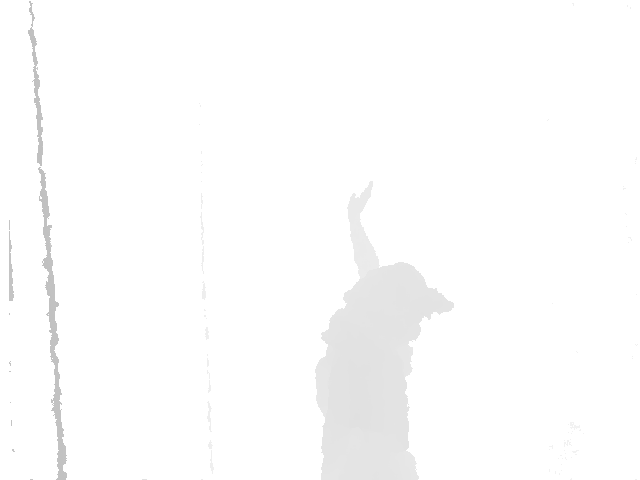hand: (346, 177, 374, 213)
head: (342, 262, 455, 324)
person: (314, 176, 456, 480)
